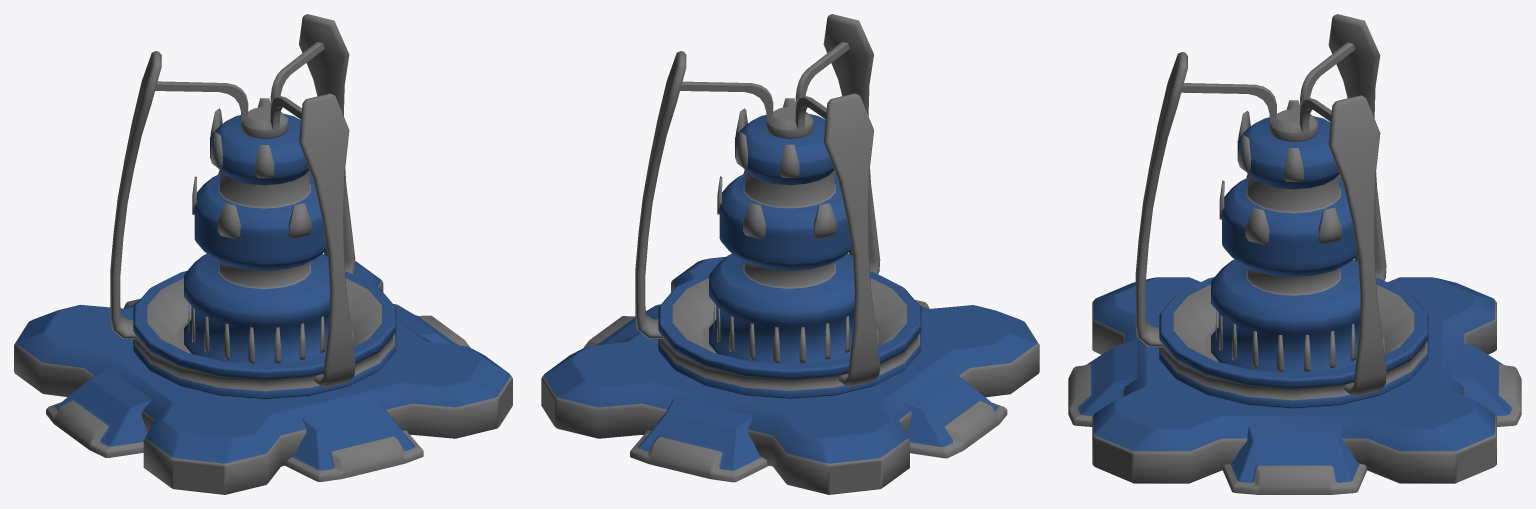
Rendered from Turret_Tesla.FBX.
3 views of the same model, side by side, from view 1: azimuth 30°, elevation 25°; view 2: azimuth 150°, elevation 25°; view 3: azimuth 270°, elevation 25° (orthographic). The views are drawn at different scales.
Parts seen in each view (by area): view 1: Laser_Turret_Base002, Spinner, Laser_Turret_Tower009, Laser_Turret_Leg008, Laser_Turret_Leg007, Laser_Turret_Leg006; view 2: Laser_Turret_Base002, Spinner, Laser_Turret_Tower009, Laser_Turret_Leg005, Laser_Turret_Leg007, Laser_Turret_Leg006; view 3: Laser_Turret_Base002, Spinner, Laser_Turret_Tower009, Laser_Turret_Leg006, Laser_Turret_Leg005, Laser_Turret_Leg008.
Boxes of the visible parts, <box> form: Laser_Turret_Base002: <box>14,98,512,494</box>; Spinner: <box>110,14,355,387</box>; Laser_Turret_Tower009: <box>133,271,396,399</box>; Laser_Turret_Leg008: <box>285,397,423,481</box>; Laser_Turret_Leg007: <box>46,367,151,457</box>; Laser_Turret_Leg006: <box>393,304,470,347</box>; Laser_Turret_Base002: <box>541,98,1039,494</box>; Spinner: <box>635,14,880,387</box>; Laser_Turret_Tower009: <box>658,270,921,399</box>; Laser_Turret_Leg005: <box>630,397,768,482</box>; Laser_Turret_Leg007: <box>902,367,1007,458</box>; Laser_Turret_Leg006: <box>583,304,660,347</box>; Laser_Turret_Base002: <box>1092,100,1496,483</box>; Spinner: <box>1135,14,1386,397</box>; Laser_Turret_Tower009: <box>1159,277,1428,408</box>; Laser_Turret_Leg006: <box>1223,424,1366,494</box>; Laser_Turret_Leg005: <box>1451,339,1521,426</box>; Laser_Turret_Leg008: <box>1068,339,1137,426</box>.
Bounding box in the file's own units: 133 × 110 × 133.
